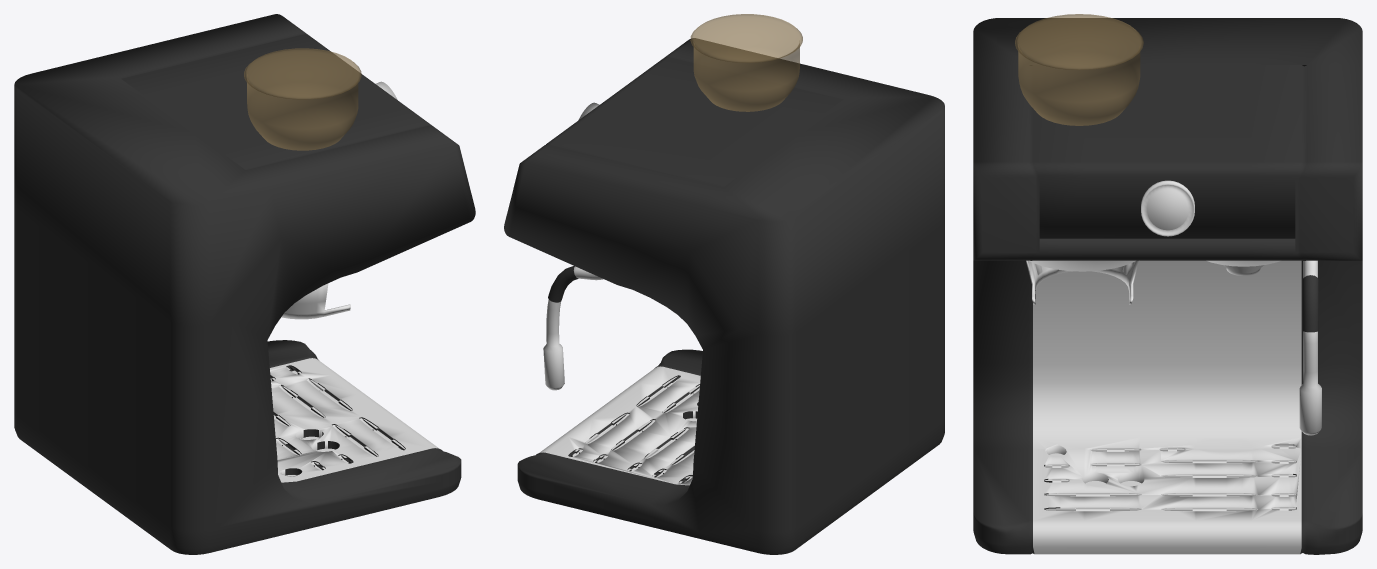
The model's file is CoffeeMachine.glb.
3 views of the same model, side by side, from view 1: azimuth 30°, elevation 25°; view 2: azimuth 150°, elevation 25°; view 3: azimuth 270°, elevation 25° (orthographic). The views are drawn at different scales.
Parts seen in each view (by area): view 1: Machine, BellyOfMachine, Grind, CylindLeftSubParter.001; view 2: Machine, BellyOfMachine, Grind, Handle, BézierCurve.001; view 3: Machine, BellyOfMachine, Grind, Knob, Handle, CylindLeftSubParter.001, BézierCurve.001, LeftPart.
Boxes of the visible parts, x1,y1,x2,y2 form: Machine: (14,14,475,554); BellyOfMachine: (270,358,439,482); Grind: (244,48,361,150); CylindLeftSubParter.001: (281,283,350,319); Machine: (504,38,944,554); BellyOfMachine: (539,366,700,485); Grind: (690,14,802,111); Handle: (543,266,603,390); BézierCurve.001: (548,266,578,302); Machine: (973,18,1362,554); BellyOfMachine: (1033,260,1301,554); Grind: (1015,14,1143,125); Knob: (1141,180,1194,236); Handle: (1299,260,1321,435); CylindLeftSubParter.001: (1026,260,1138,304); BézierCurve.001: (1302,275,1318,332); LeftPart: (1029,260,1135,271).
Size of the model in its own units: 1.61 by 2.14 by 1.65.
